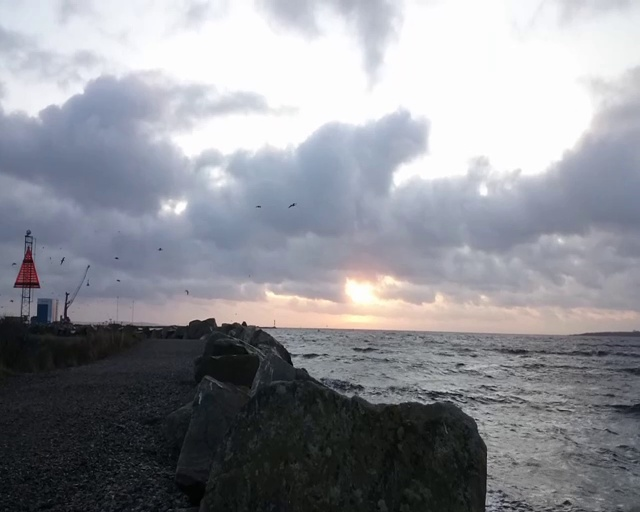BIRD: (58, 263, 91, 323)
